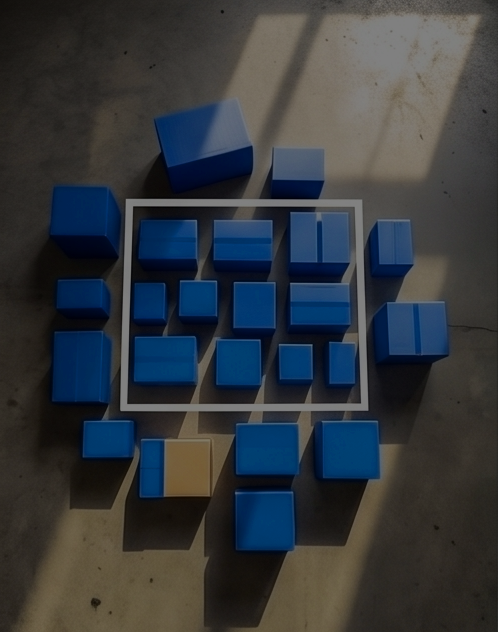blue_box: (154, 98, 253, 194), (51, 183, 123, 260), (374, 301, 449, 364), (52, 331, 114, 406), (288, 212, 349, 279), (314, 420, 382, 479), (236, 490, 298, 551), (287, 282, 352, 334), (134, 336, 198, 387), (236, 425, 299, 475), (214, 220, 272, 274), (140, 219, 200, 271), (272, 147, 324, 199), (369, 218, 413, 278), (217, 339, 263, 391), (56, 279, 111, 321), (234, 282, 275, 337), (84, 420, 134, 459), (178, 281, 219, 326), (324, 341, 356, 389), (134, 284, 169, 327), (141, 439, 166, 499), (281, 343, 314, 387)
container_box: (120, 197, 368, 412)
